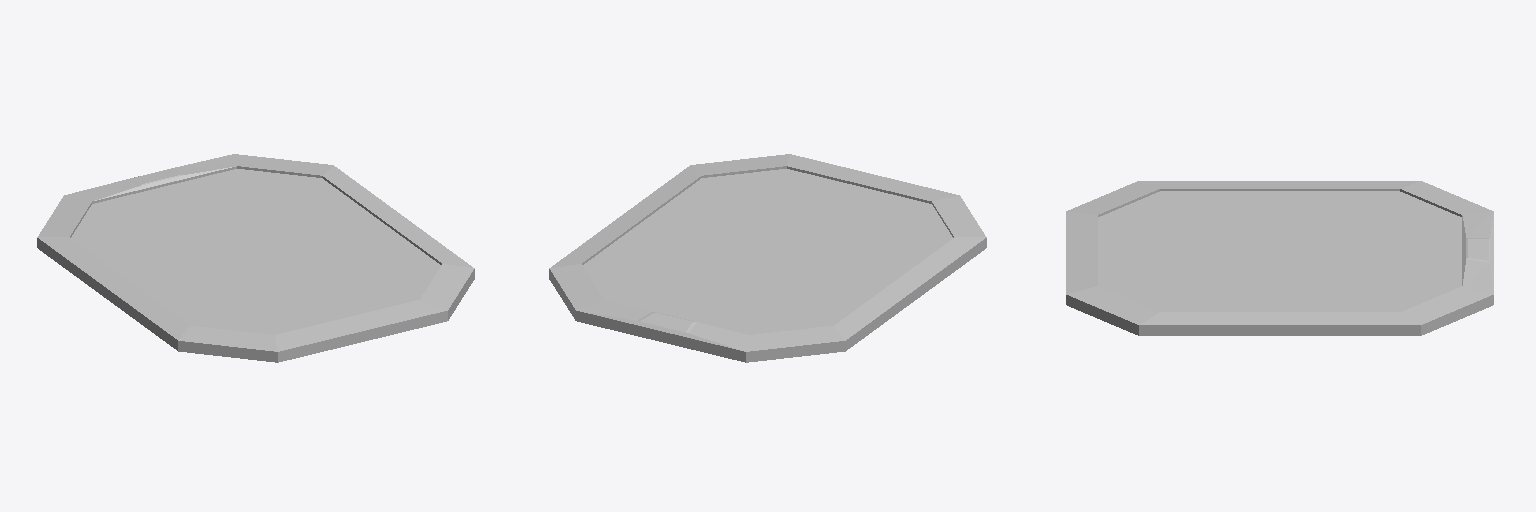
File: Tablet.obj
3 views of the same model, side by side, from view 1: azimuth 30°, elevation 25°; view 2: azimuth 150°, elevation 25°; view 3: azimuth 270°, elevation 25° (orthographic).
Visible parts, largest first — view 1: Tablet_Cube.013; view 2: Tablet_Cube.013; view 3: Tablet_Cube.013.
Boxes of the visible parts, <box> form: Tablet_Cube.013: <box>37,154,474,362</box>; Tablet_Cube.013: <box>549,154,986,362</box>; Tablet_Cube.013: <box>1066,181,1493,335</box>.
Size of the model in its own units: 0.12 by 0.006 by 0.15.